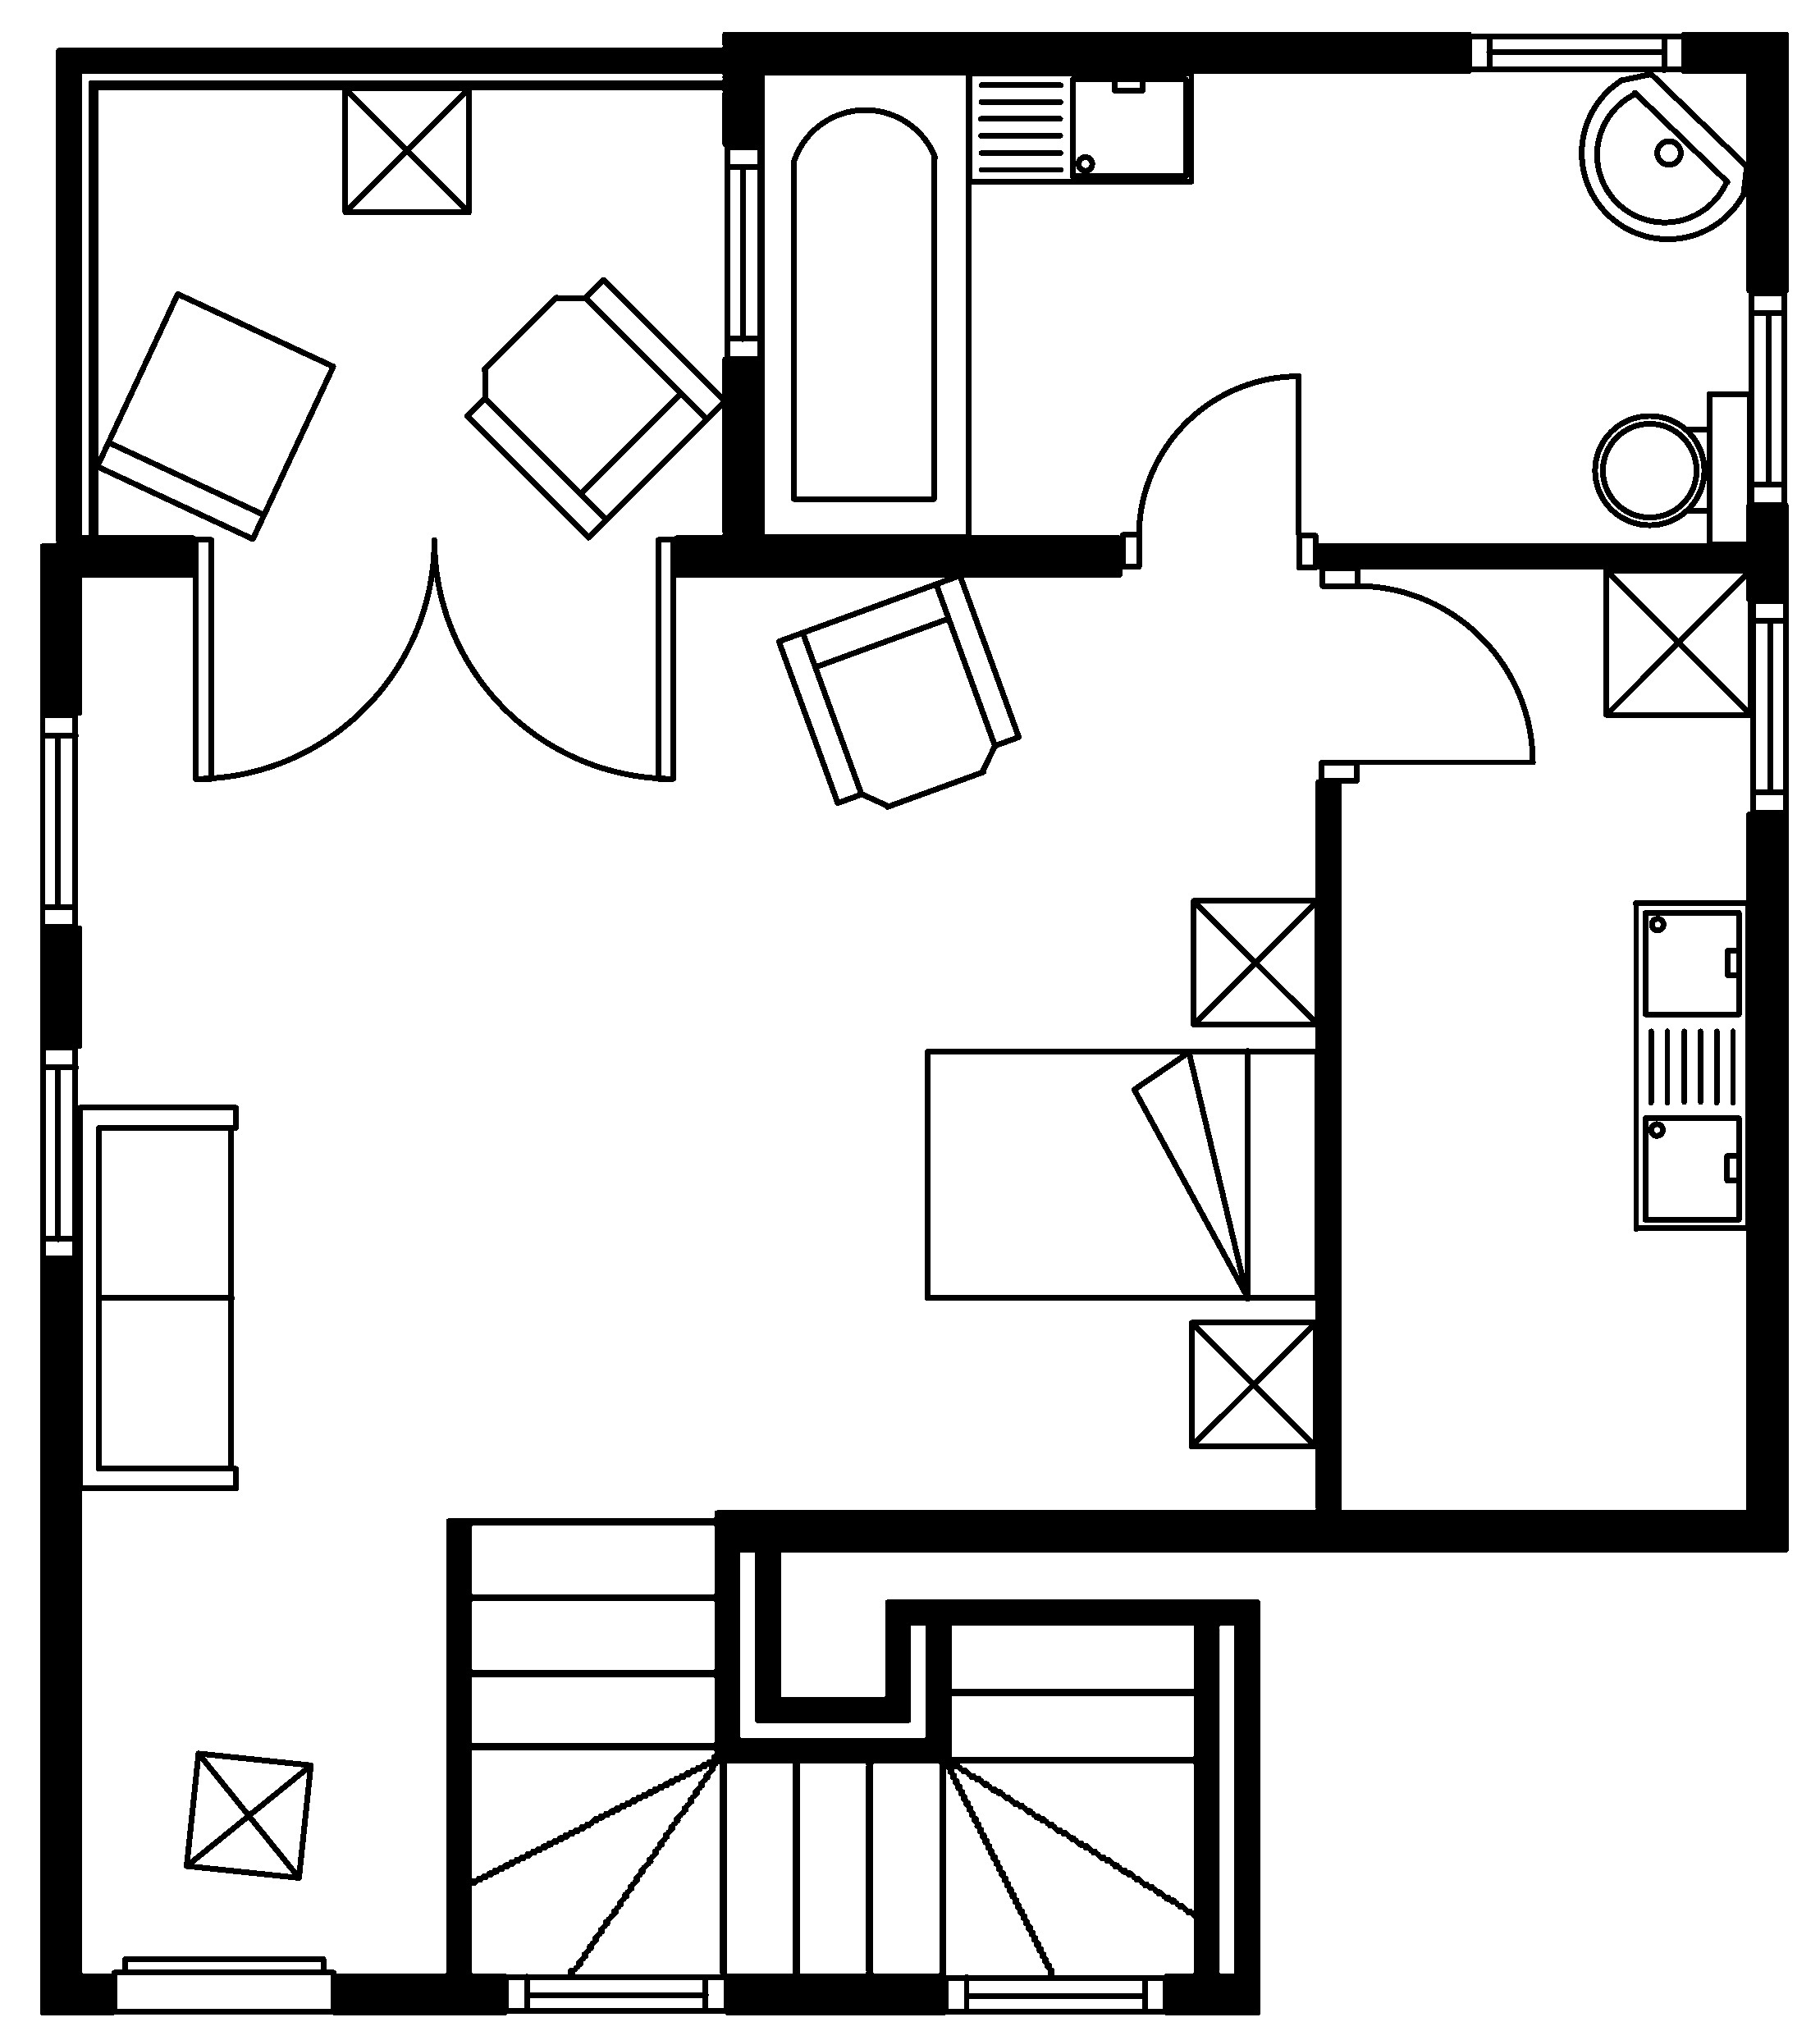armchair: (462, 274, 727, 541), (773, 571, 1022, 810)
bed: (922, 1047, 1321, 1302)
coffee_table: (1602, 566, 1753, 719), (1186, 1318, 1319, 1449), (1189, 896, 1321, 1028), (183, 1748, 313, 1882), (341, 84, 473, 214)
large_sink: (1592, 388, 1753, 548)
large_sofa: (76, 1103, 239, 1492)
sink: (964, 69, 1195, 184)
small_sink: (1578, 70, 1750, 241)
small_sofa: (93, 290, 337, 543)
tub: (757, 69, 971, 539)
twin_sink: (1630, 898, 1750, 1232)
